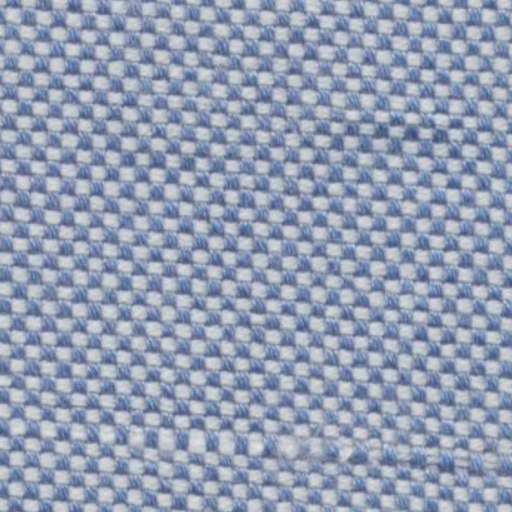DaiSha: (32, 417, 498, 482)
